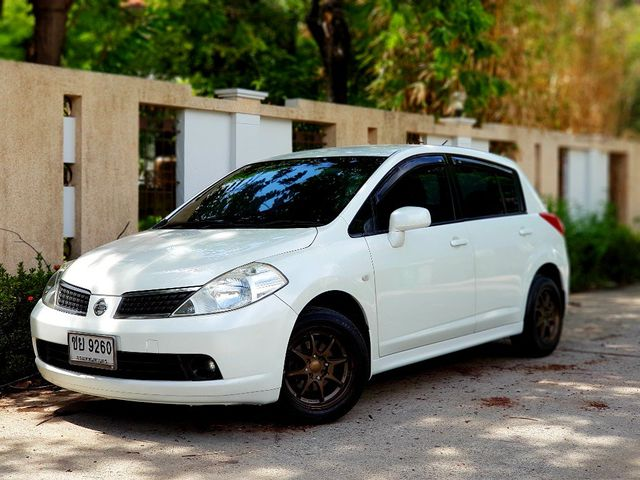sedan: (28, 144, 572, 422)
